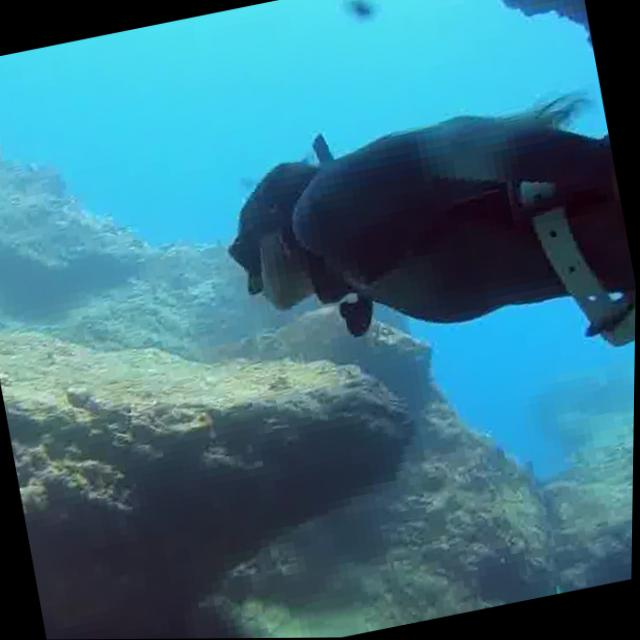human: (202, 77, 639, 426)
